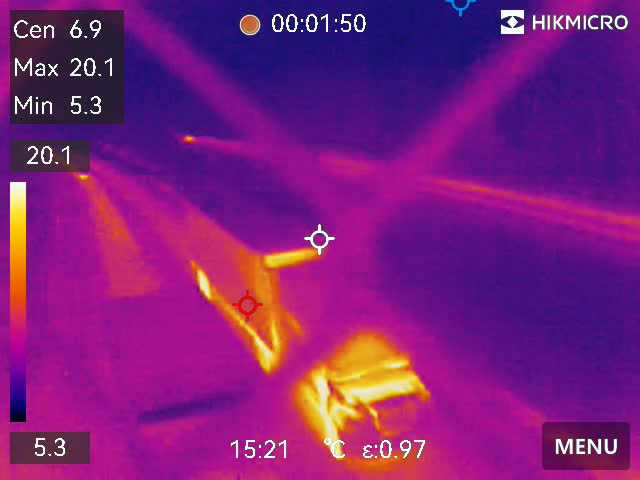heavyTruck: (180, 179, 441, 456)
